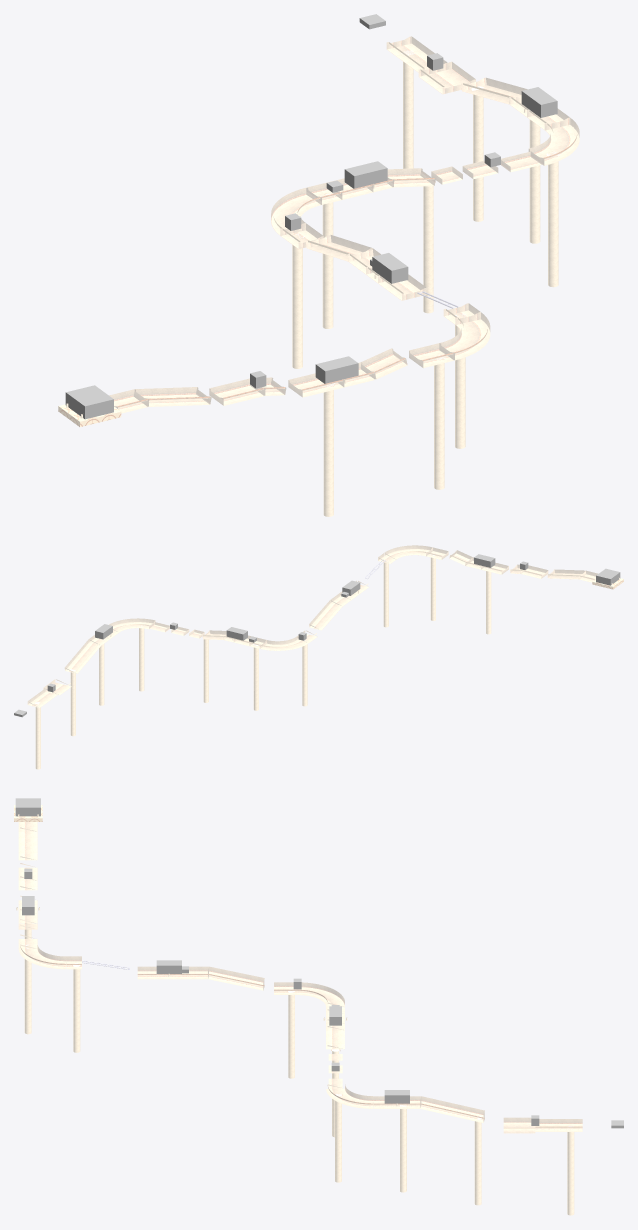
File: level.gltf
The picture shows the model from 3 angles, top to bottom: view 1: azimuth 30°, elevation 25°; view 2: azimuth 150°, elevation 25°; view 3: azimuth 270°, elevation 25°; orthographic projection. The views are drawn at different scales.
Visible parts, largest first — view 1: Floor_009, Floor_024, Column_002, Column_001, Column_007, Column_004, Column_006, Column_005, Floor_002, Column_009, Floor_016, Column_008 (+17 smaller); view 2: Floor_027, Floor_014, Floor_009, Floor_024, Floor_016, Column_003, Column_009, Column_005, Column_002, Column_010, Column_001, Column_006 (+4 smaller); view 3: Floor_027, Floor_014, Floor_016, Column_003, Column_009, Column_010, Floor_024, Floor_009, Floor_002, Column_004, Column_008, Column_002 (+2 smaller).
Part boxes in pixels (x1=…): Floor_009: x1=439, y1=312, x2=490, y2=360; Floor_024: x1=528, y1=117, x2=579, y2=165; Column_002: x1=434, y1=355, x2=445, y2=489; Column_001: x1=323, y1=383, x2=335, y2=516; Column_007: x1=546, y1=151, x2=559, y2=287; Column_004: x1=291, y1=233, x2=304, y2=368; Column_006: x1=423, y1=182, x2=435, y2=313; Column_005: x1=321, y1=193, x2=334, y2=328; Floor_002: x1=133, y1=387, x2=211, y2=406; Column_009: x1=471, y1=86, x2=484, y2=221; Floor_016: x1=271, y1=187, x2=321, y2=235; Column_008: x1=529, y1=110, x2=540, y2=243; Floor_027: x1=64, y1=639, x2=100, y2=673; Floor_014: x1=309, y1=600, x2=342, y2=630; Floor_009: x1=384, y1=545, x2=432, y2=559; Floor_024: x1=109, y1=618, x2=155, y2=632; Floor_016: x1=260, y1=637, x2=308, y2=650; Column_003: x1=383, y1=560, x2=388, y2=627; Column_009: x1=70, y1=669, x2=75, y2=736; Column_005: x1=253, y1=643, x2=259, y2=710; Column_002: x1=430, y1=553, x2=436, y2=620; Column_010: x1=35, y1=702, x2=40, y2=769; Column_001: x1=486, y1=568, x2=491, y2=634; Column_006: x1=203, y1=639, x2=208, y2=702; Floor_027: x1=420, y1=1096, x2=484, y2=1122; Floor_014: x1=208, y1=966, x2=264, y2=990; Floor_016: x1=297, y1=982, x2=344, y2=1007; Column_003: x1=72, y1=963, x2=81, y2=1052; Column_009: x1=474, y1=1116, x2=482, y2=1205; Column_010: x1=567, y1=1126, x2=574, y2=1215; Floor_024: x1=326, y1=1084, x2=373, y2=1108; Floor_009: x1=18, y1=944, x2=66, y2=969; Floor_002: x1=18, y1=827, x2=37, y2=860; Column_004: x1=287, y1=989, x2=295, y2=1078; Column_008: x1=399, y1=1104, x2=407, y2=1192; Column_002: x1=24, y1=944, x2=31, y2=1034.
Size of the model in its own units: 369 by 122 by 385.
Materials: 7 (7 with a texture image).
